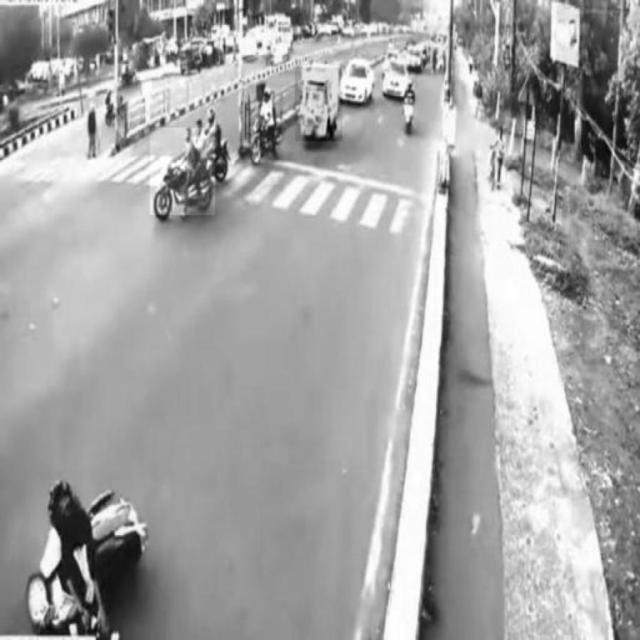vehicle: (150, 128, 216, 216), (294, 68, 342, 141), (250, 92, 288, 163), (341, 59, 376, 103)
